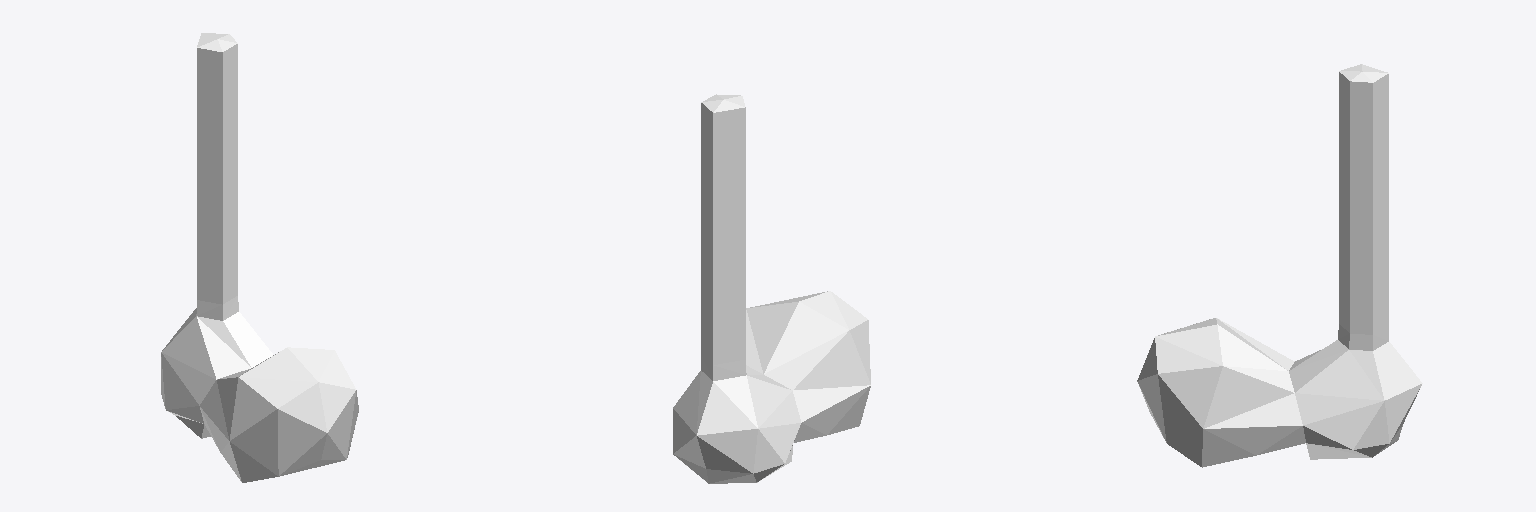
File: leg.obj
3 views of the same model, side by side, from view 1: azimuth 30°, elevation 25°; view 2: azimuth 150°, elevation 25°; view 3: azimuth 270°, elevation 25° (orthographic).
Visible parts, largest first — view 1: mesh0057; view 2: mesh0057; view 3: mesh0057.
Part boxes in pixels (bbox=[...]): mesh0057: bbox=[161, 33, 358, 482]; mesh0057: bbox=[673, 94, 870, 483]; mesh0057: bbox=[1137, 64, 1422, 467].
Bounding box in the file's own units: 0.3003 × 0.8232 × 0.573.